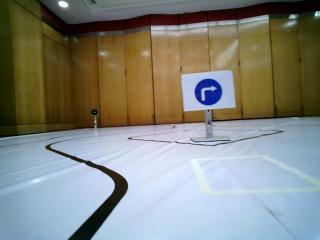right: (182, 77, 236, 108)
